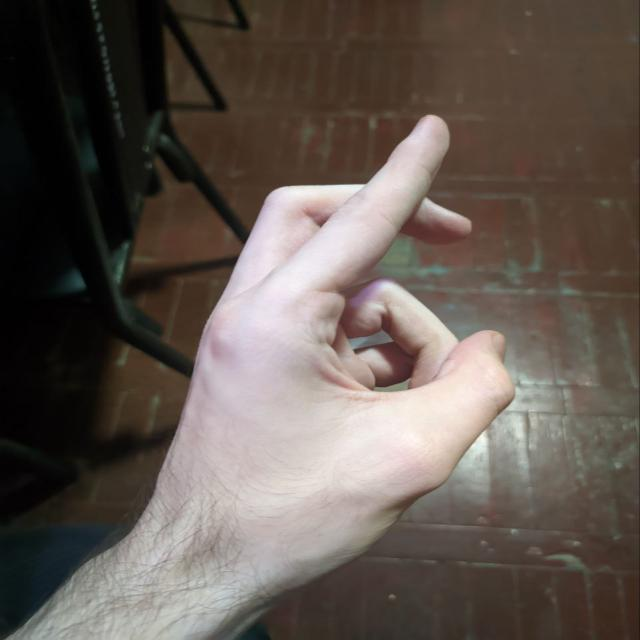b: (184, 76, 546, 512)
